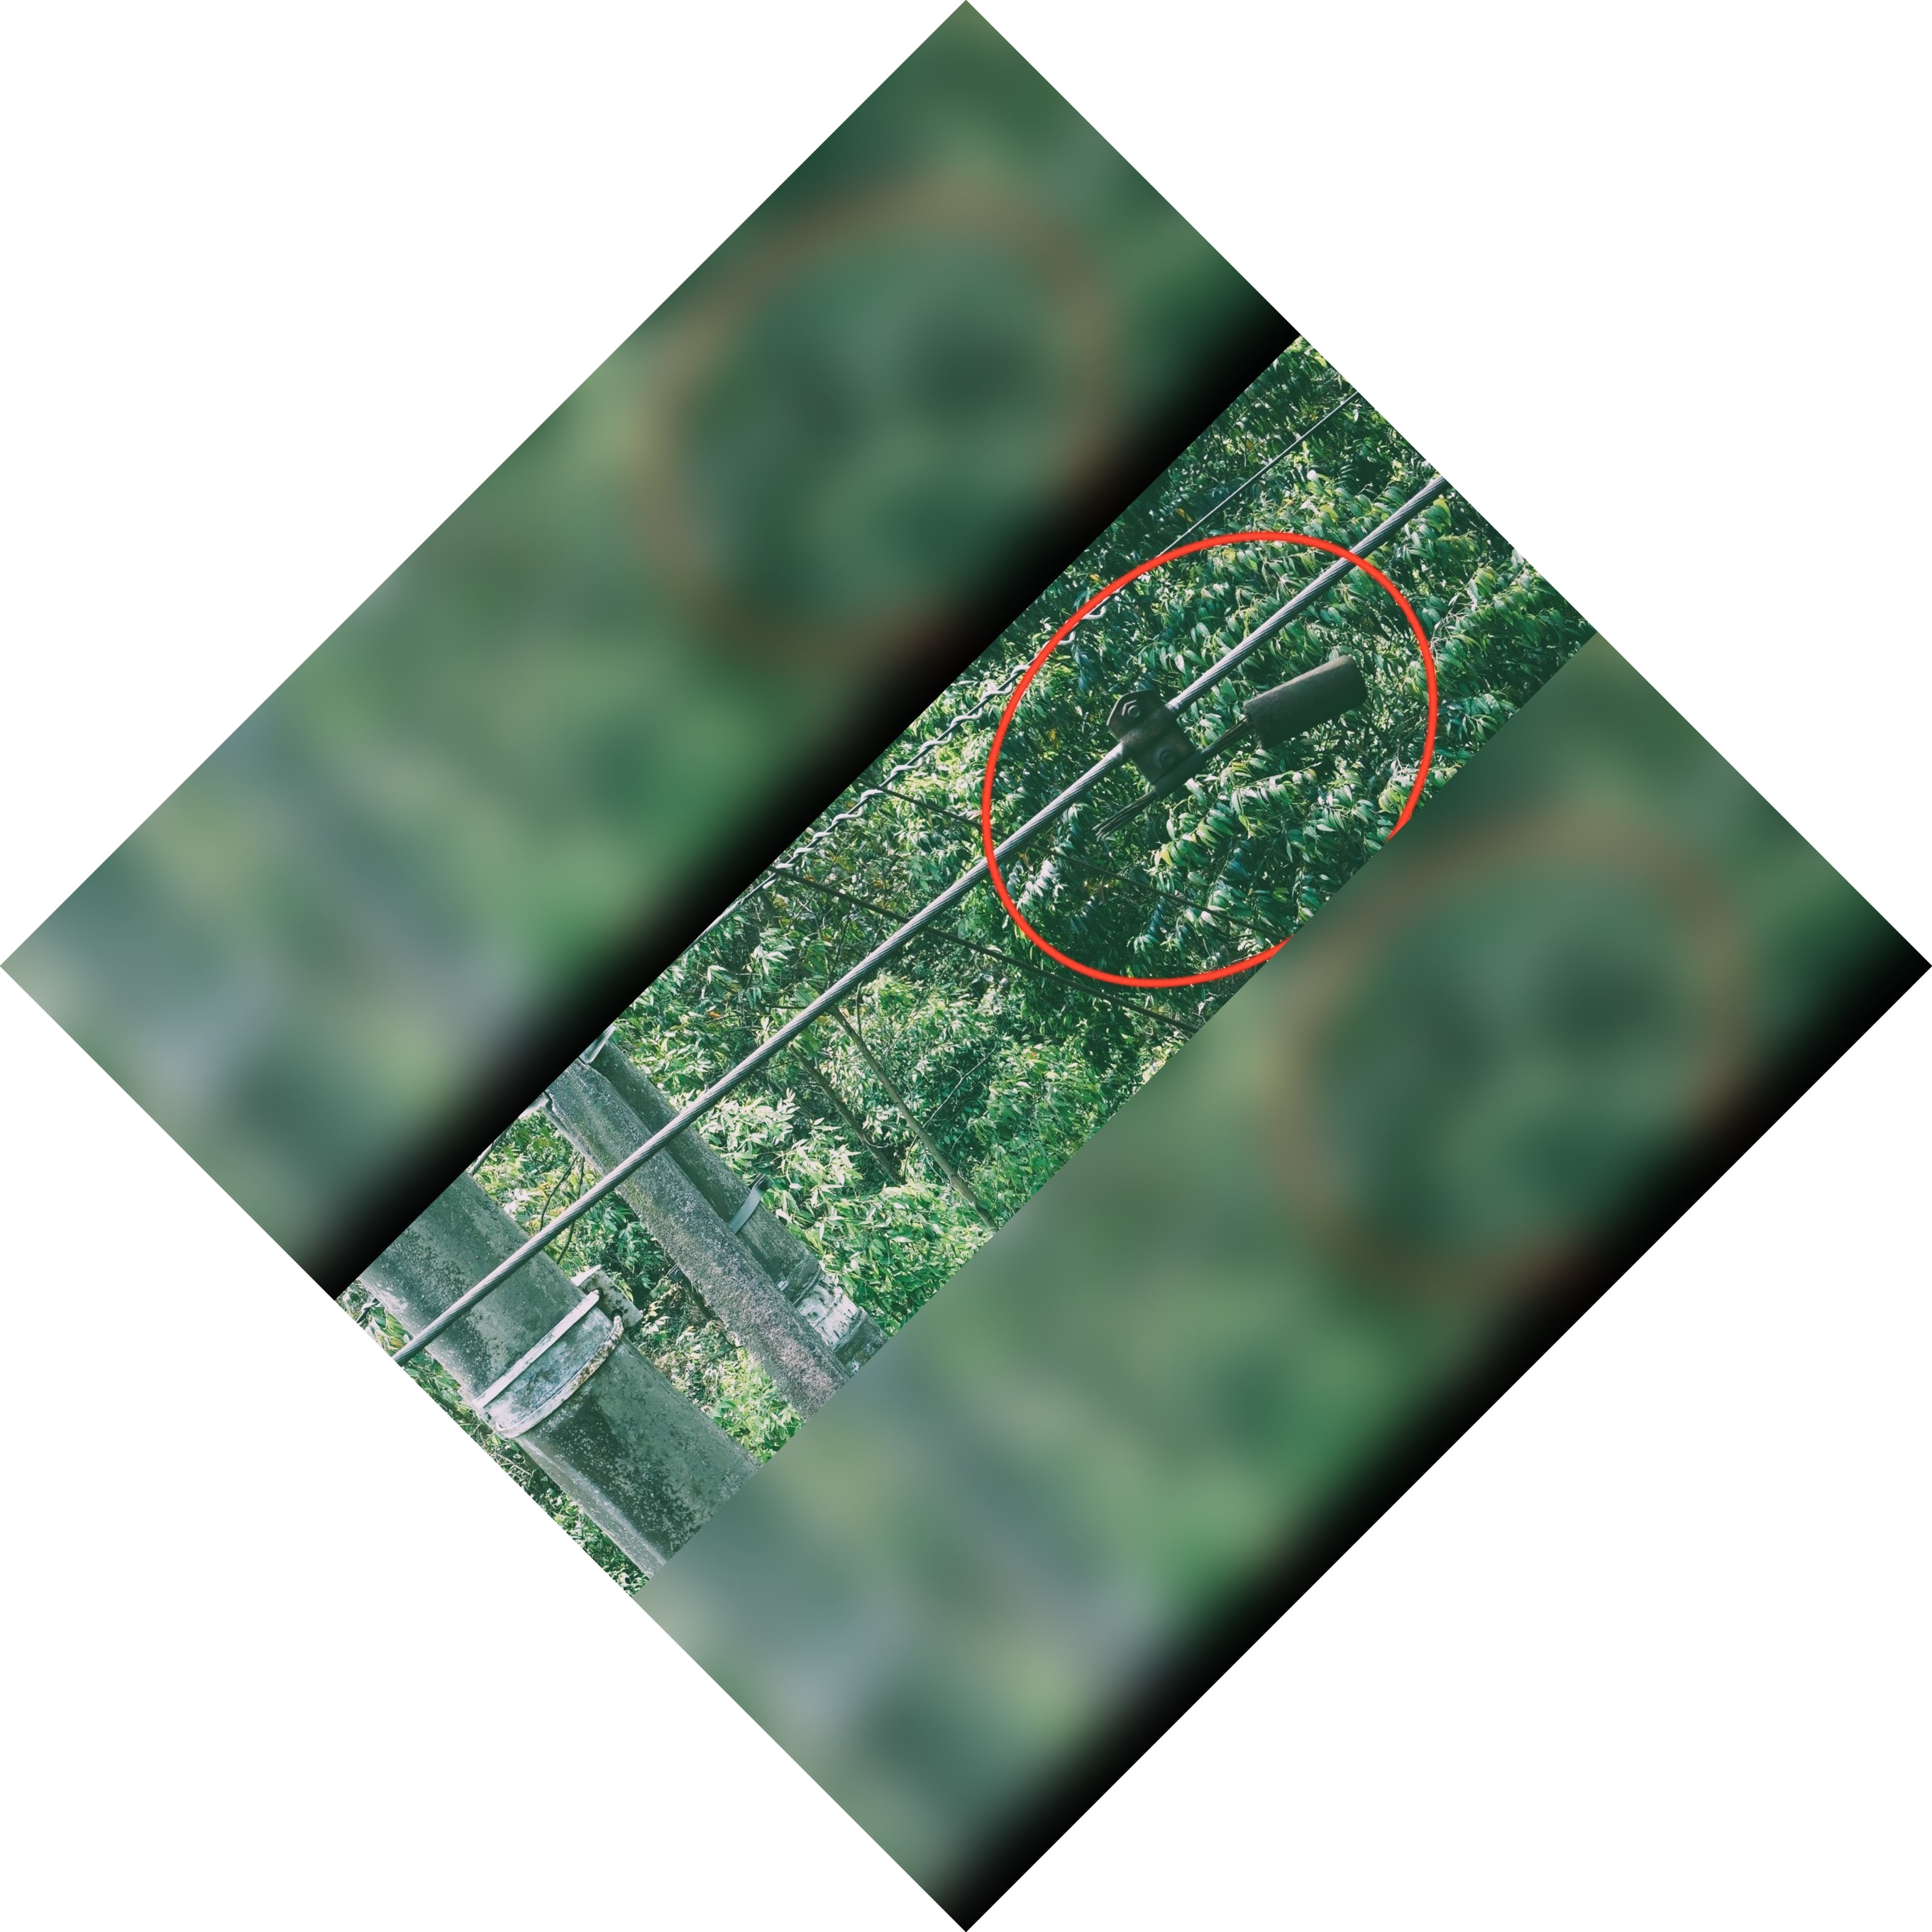Damage of shockproof hammer: (1079, 630, 1382, 869)
